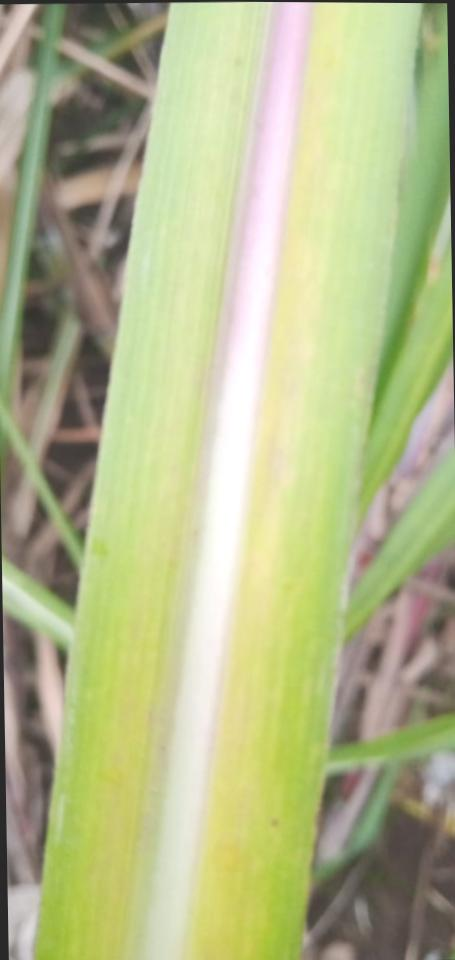Healthy: (27, 2, 422, 960)
